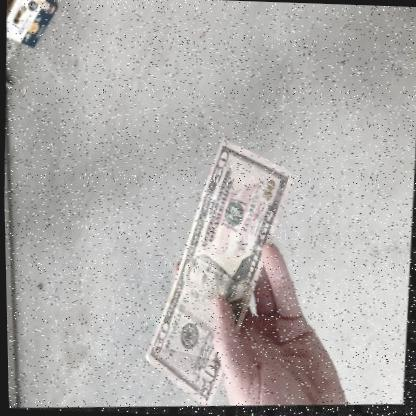dollar_front: (146, 139, 297, 408)
